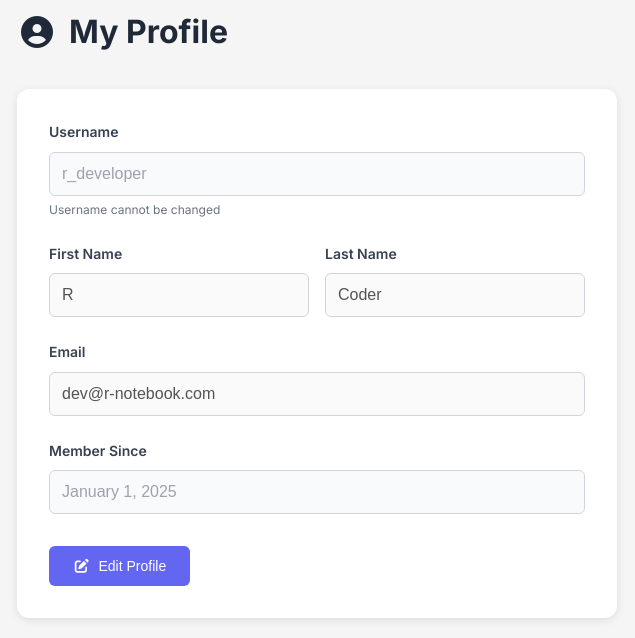
ProfilePage.vue › restores original data when "Cancel" is clicked
Click the button "Edit Profile". click: (120, 566)
box: [49,546,190,586]
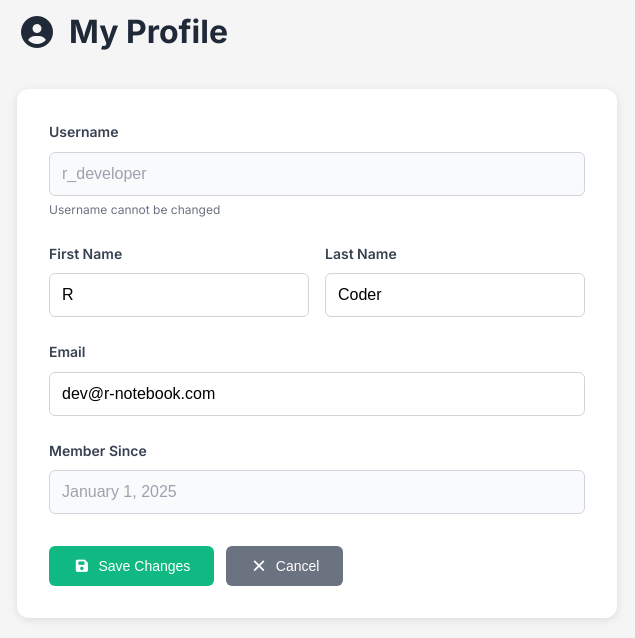
Replace the text in the field below "Email" with "changed-email@test.com". click: (317, 394)
box: [49,372,585,416]
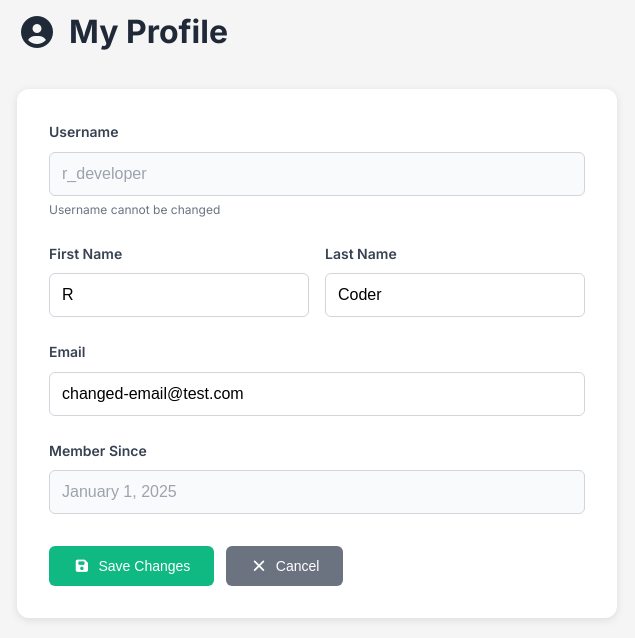
Click the button "Cancel". click: (285, 566)
box: [226,546,343,586]
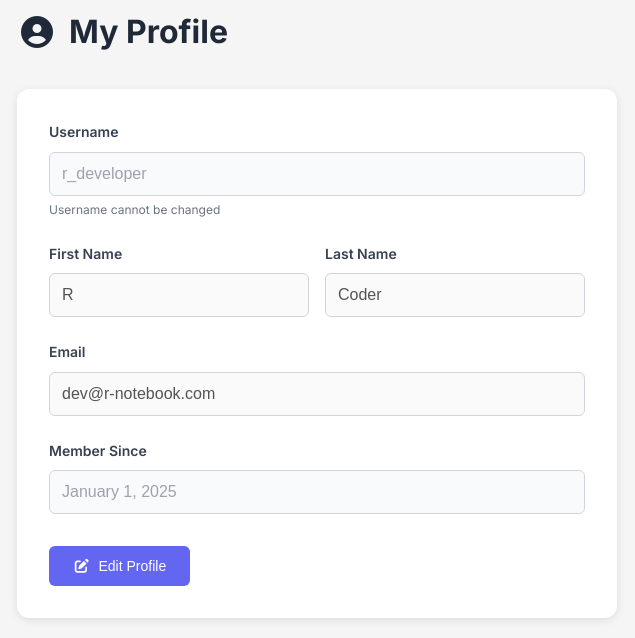
expect the field below "Email" holds "dev@r-notebook.com": met, box [49,372,585,416]
expect the button "Edit Profile" is shown: met, box [49,546,190,586]
